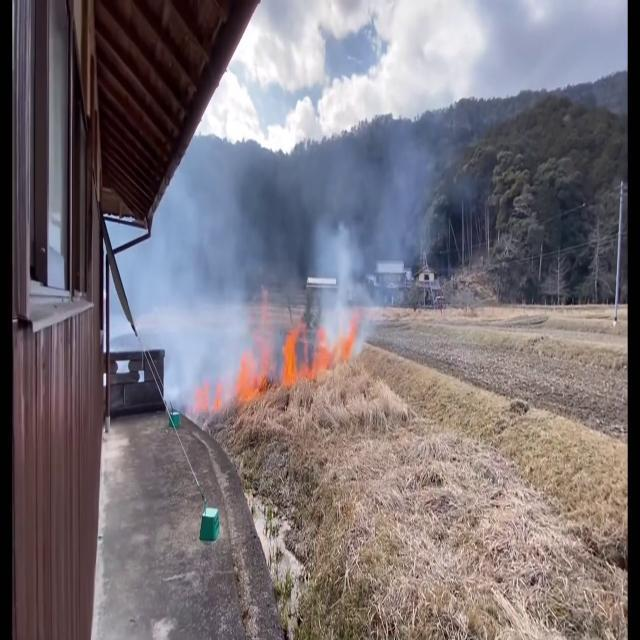Fire: (266, 317, 322, 397)
Smoke: (146, 110, 449, 387)
